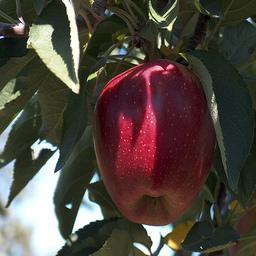apple: (95, 64, 220, 226)
